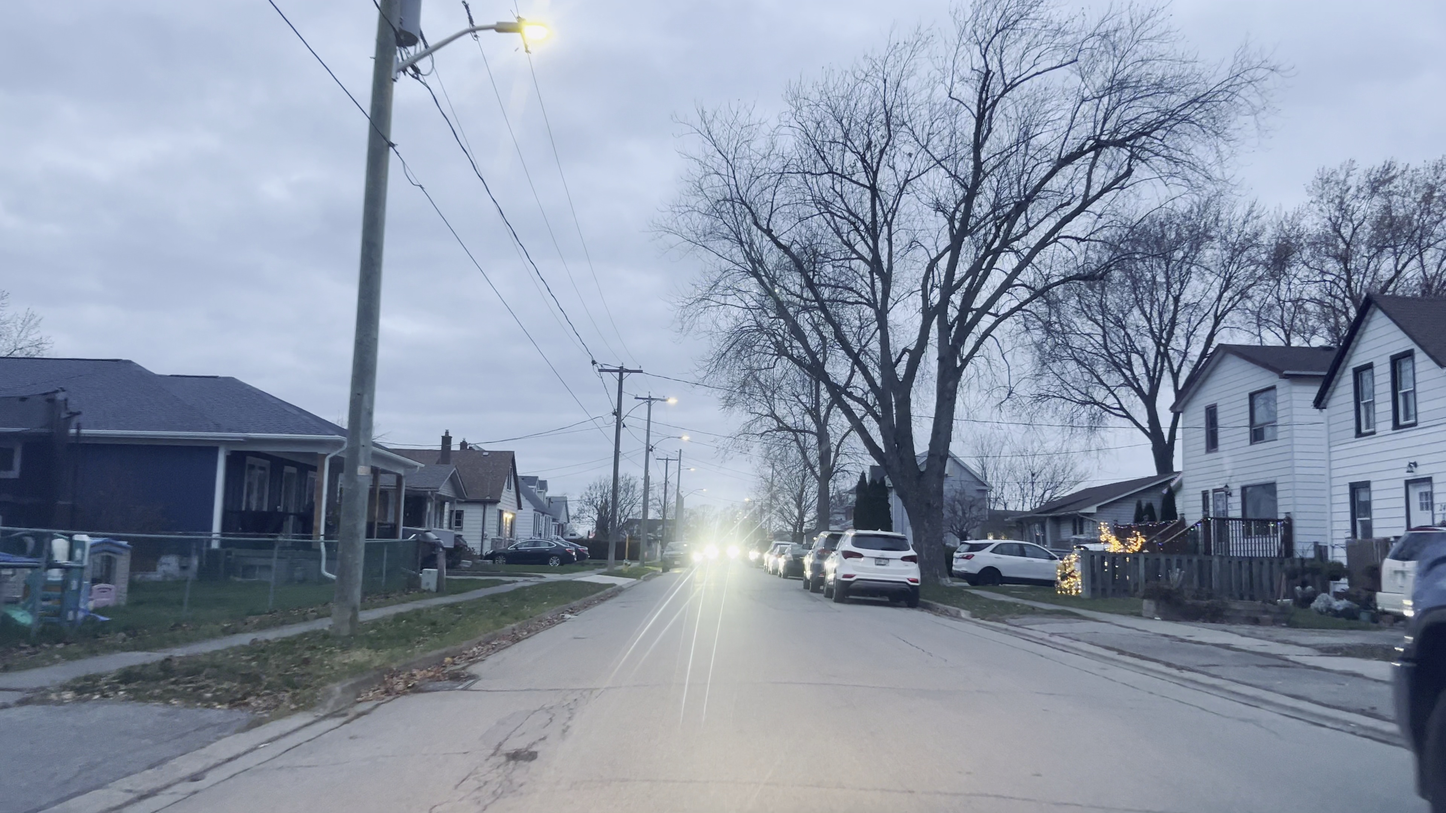cracks: (477, 680, 567, 813)
